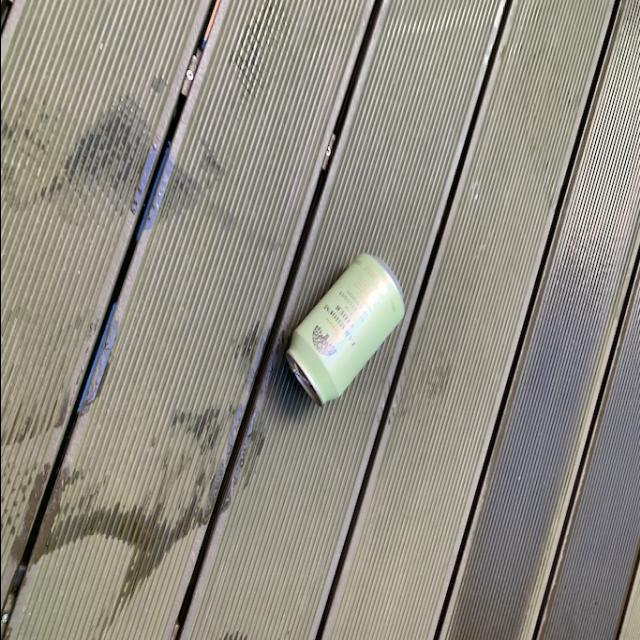litter: (278, 248, 402, 407)
